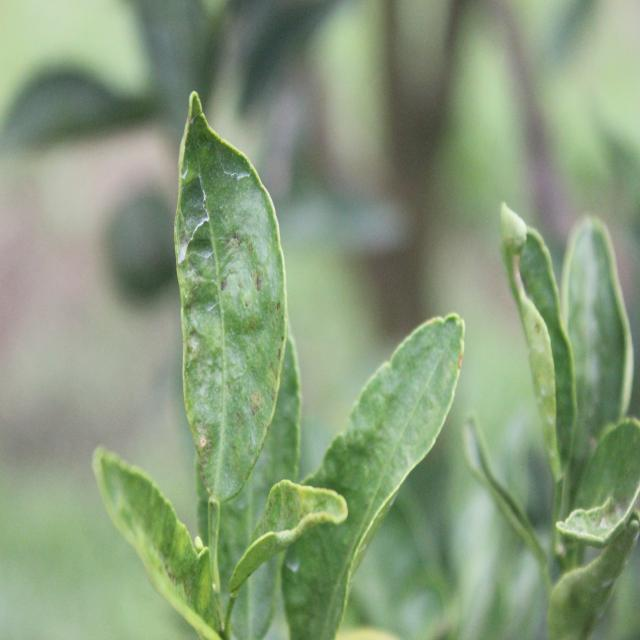canker: (276, 330, 472, 578), (176, 161, 284, 457), (512, 220, 562, 394)
